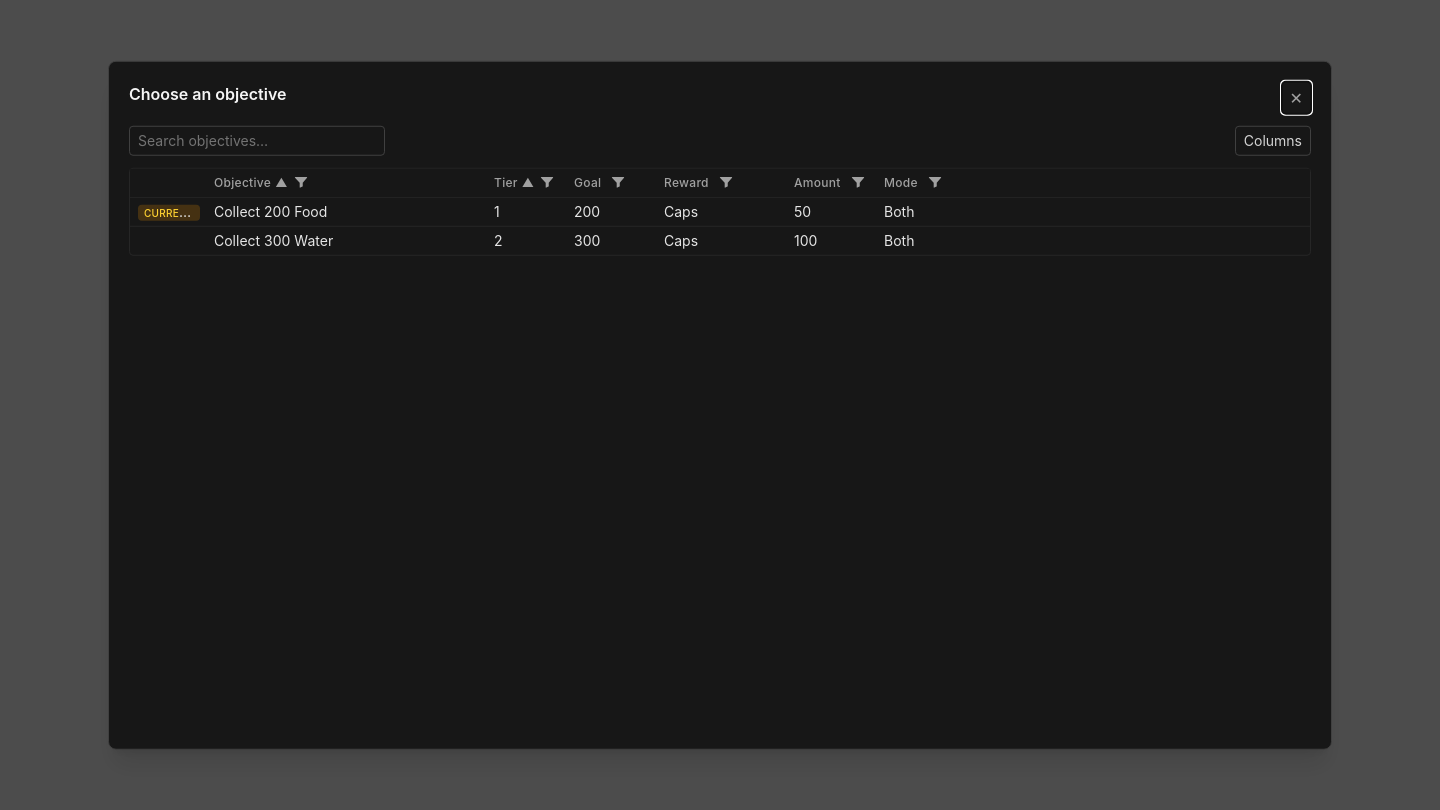
it: ObjectivePickerDialog › filters rows via the global search
The width and height of the screenshot is (1440, 810).
In the search field labelled "Search objectives": coordinates (257, 141) [129,126,385,156], type "Water"
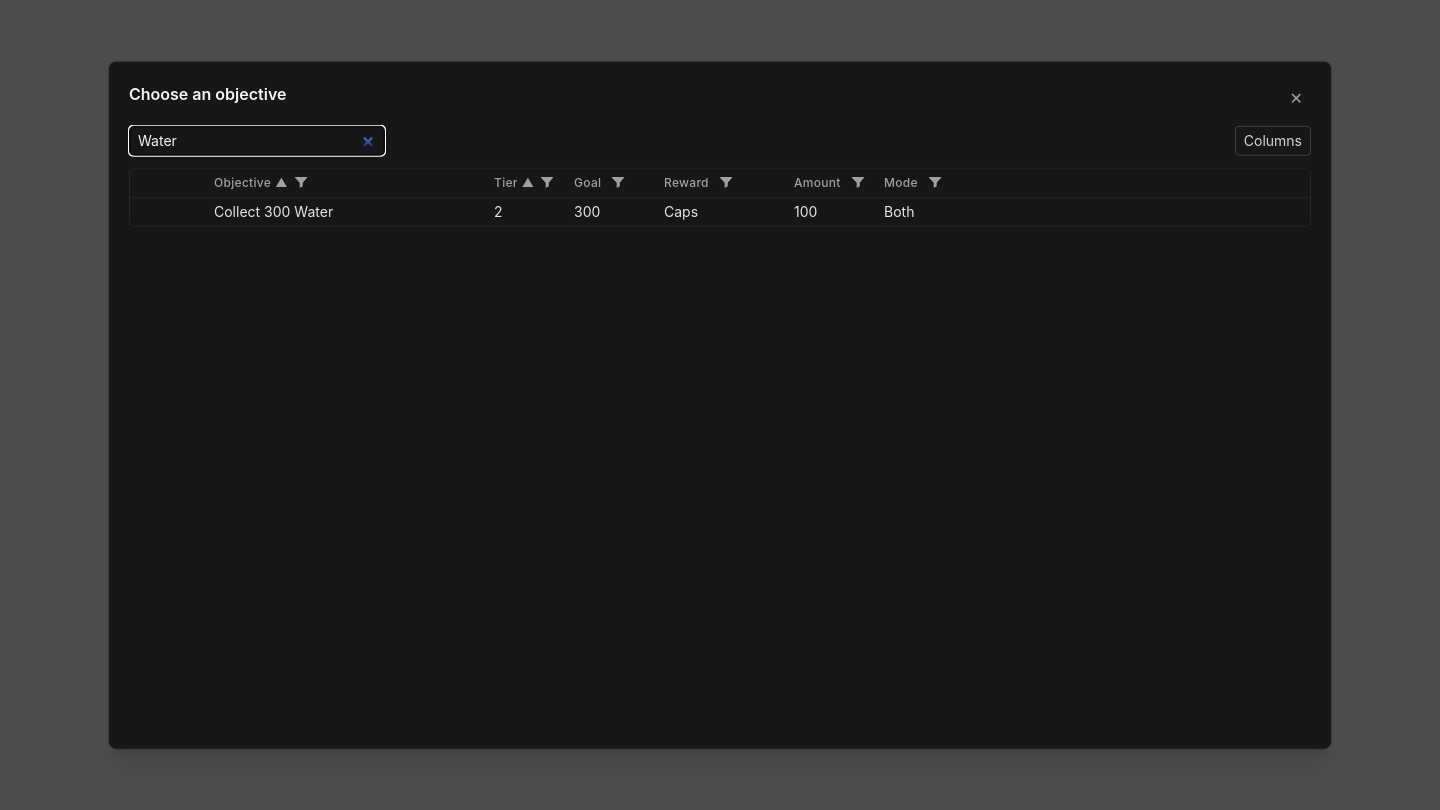
Check: the text "Collect 300 Water" is shown, box [214,203,333,220]
Check: the text "Collect 200 Food" is gone
